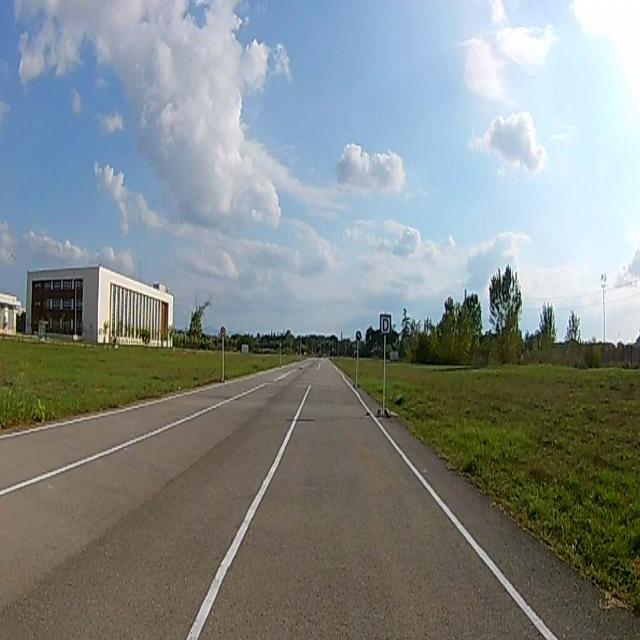durak: (379, 313, 391, 335)
